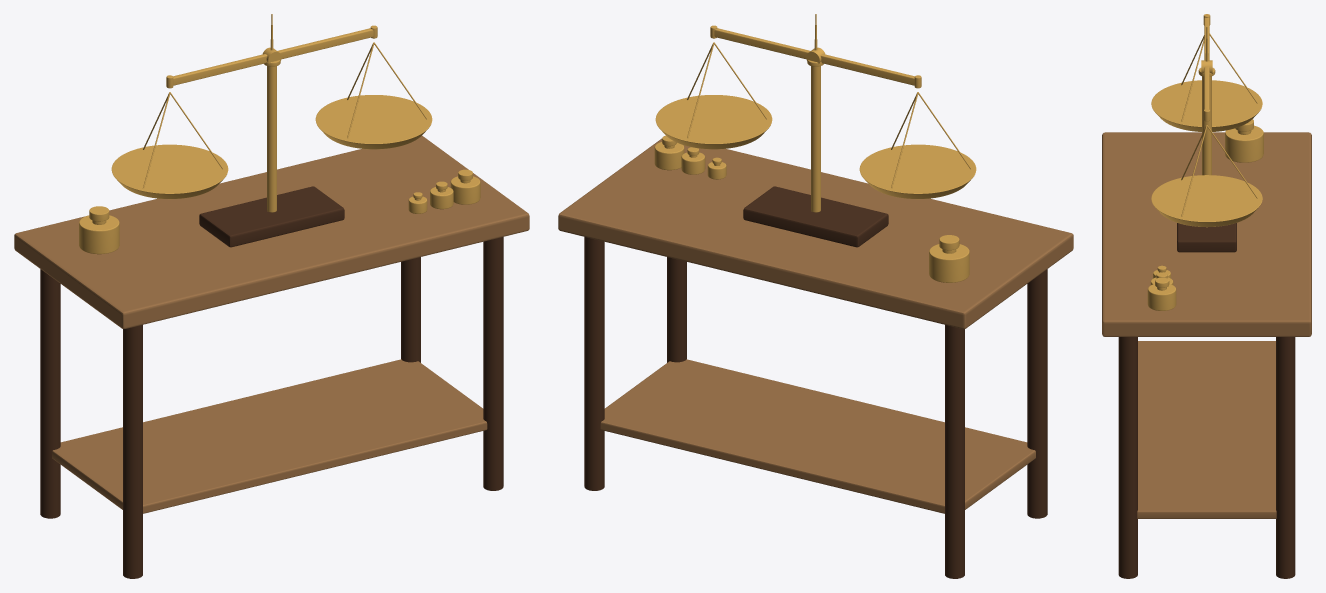
The model's file is BalanceScale.glb.
3 renders of one model, left to right at view 1: azimuth 30°, elevation 25°; view 2: azimuth 150°, elevation 25°; view 3: azimuth 270°, elevation 25°, orthographic. The views are drawn at different scales.
Visible parts, largest first — view 1: Counter, ScaleStand, PanLeft, PanRight, Beam, Weight_500g, Weight_200g; view 2: Counter, ScaleStand, PanLeft, PanRight, Beam, Weight_500g, Weight_200g; view 3: Counter, PanRight, PanLeft, ScaleStand, Weight_500g, Weight_200g, Beam.
Boxes of the visible parts, box(x1,y1,x2,y2) form: Counter: box(14, 135, 529, 578); ScaleStand: box(199, 60, 344, 247); PanLeft: box(111, 92, 228, 199); PanRight: box(315, 42, 432, 149); Beam: box(166, 14, 377, 88); Weight_500g: box(79, 206, 119, 254); Weight_200g: box(450, 169, 480, 204); Counter: box(558, 138, 1073, 578); ScaleStand: box(743, 60, 888, 247); PanLeft: box(859, 92, 976, 199); PanRight: box(655, 42, 772, 149); Beam: box(710, 14, 921, 88); Weight_500g: box(929, 235, 969, 282); Weight_200g: box(654, 135, 684, 170); Counter: box(1102, 132, 1311, 578); PanRight: box(1151, 125, 1262, 227); PanLeft: box(1151, 33, 1262, 131); ScaleStand: box(1177, 68, 1236, 252); Weight_500g: box(1225, 119, 1263, 162); Weight_200g: box(1147, 277, 1176, 310); Beam: box(1201, 14, 1212, 121).
Bounding box in the file's own units: 1.2 × 1.37 × 0.56.
